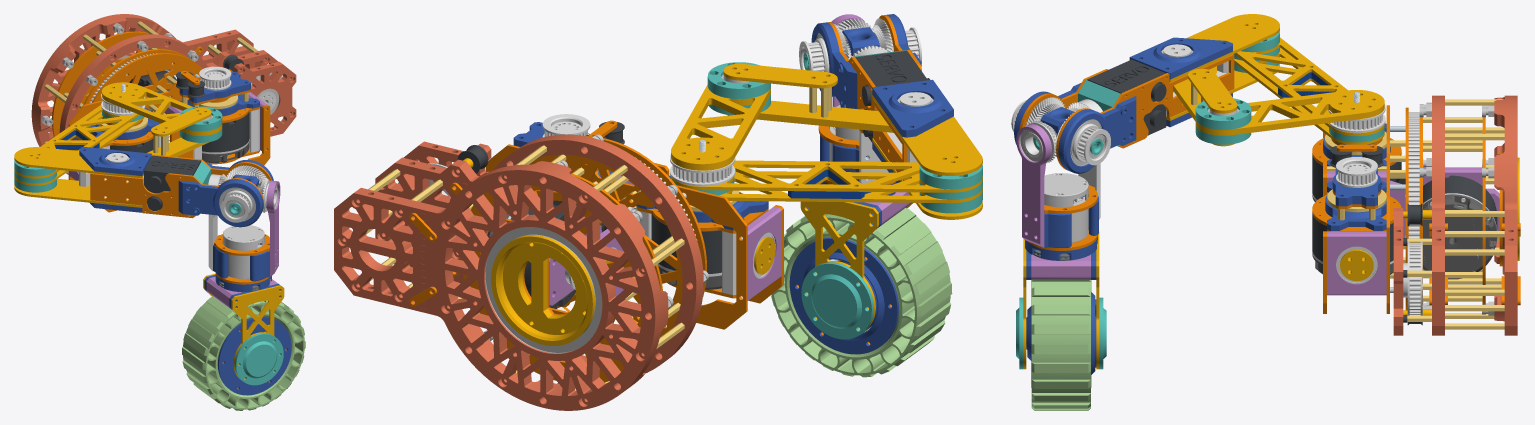
Rendered from single-leg-assembly.glb.
The picture shows the model from 3 angles, left to right: view 1: azimuth 30°, elevation 25°; view 2: azimuth 150°, elevation 25°; view 3: azimuth 270°, elevation 25°; orthographic projection. The views are drawn at different scales.
Visible parts, largest first — view 1: Back Support Plate Chassis (×2), Wheel, DEF Left Servo Plate, Wheel Front Dust Cap, Bearing Housing Support Chassis, Diff Wrist Left Bearing Cap, Swerve Rear Cap, AKH70-16电机 (×3), BC Top Plate, Swerve Front Connector Plate, DEF Top Plate, Pitch Body Rear Plate (+38 smaller); view 2: Back Support Plate Chassis (×2), Wheel, Bottom Bracket Chassis, Pitch Body Bearing Cap, AD Top Plate, Wheel Rear Dust Cap, Swerve Front Bearing Cap, Axis Rear Cover, BC Top Plate, Swerve Rear Connector Plate, DEF Top Plate, Bottom 2 Bracket Chassis (+31 smaller); view 3: Wheel, AKH70-16电机 (×4), Back Support Plate Chassis (×2), BC Top Plate, Axis Right Standoff, AD Top Plate, DEF Right Servo Plate, Serve Passive Support, Diff Wrist Right Bearing Cap, DEF Top Block, DEF Top Plate, Servo (×2) (+40 smaller).
Part boxes in pixels (x1=…): Back Support Plate Chassis (×2): x1=31, y1=14, x2=219, y2=174; Wheel: x1=182, y1=296, x2=305, y2=410; DEF Left Servo Plate: x1=90, y1=173, x2=263, y2=218; Wheel Front Dust Cap: x1=217, y1=316, x2=291, y2=395; Bearing Housing Support Chassis: x1=234, y1=61, x2=296, y2=136; Diff Wrist Left Bearing Cap: x1=178, y1=179, x2=263, y2=227; Swerve Rear Cap: x1=234, y1=333, x2=283, y2=385; AKH70-16电机 (×3): x1=110, y1=112, x2=249, y2=162; BC Top Plate: x1=102, y1=82, x2=222, y2=133; Swerve Front Connector Plate: x1=231, y1=285, x2=284, y2=379; DEF Top Plate: x1=14, y1=147, x2=143, y2=178; Pitch Body Rear Plate: x1=52, y1=31, x2=170, y2=136; Back Support Plate Chassis (×2): x1=420, y1=134, x2=703, y2=410; Wheel: x1=771, y1=208, x2=952, y2=377; Bottom Bracket Chassis: x1=334, y1=187, x2=432, y2=312; Pitch Body Bearing Cap: x1=491, y1=235, x2=594, y2=345; AD Top Plate: x1=671, y1=160, x2=982, y2=192; Wheel Rear Dust Cap: x1=789, y1=237, x2=898, y2=354; Swerve Front Bearing Cap: x1=801, y1=262, x2=873, y2=339; Axis Rear Cover: x1=485, y1=144, x2=747, y2=329; BC Top Plate: x1=671, y1=85, x2=770, y2=167; Swerve Rear Connector Plate: x1=800, y1=201, x2=878, y2=330; DEF Top Plate: x1=872, y1=95, x2=982, y2=175; Bottom 2 Bracket Chassis: x1=375, y1=157, x2=473, y2=283; Wheel: x1=1031, y1=280, x2=1090, y2=410; AKH70-16电机 (×4): x1=1312, y1=155, x2=1497, y2=279; Back Support Plate Chassis (×2): x1=1432, y1=95, x2=1517, y2=321; BC Top Plate: x1=1195, y1=90, x2=1384, y2=132; Axis Right Standoff: x1=1327, y1=231, x2=1386, y2=295; AD Top Plate: x1=1234, y1=37, x2=1384, y2=135; DEF Right Servo Plate: x1=1056, y1=54, x2=1234, y2=169; Serve Passive Support: x1=1016, y1=124, x2=1051, y2=247; Diff Wrist Right Bearing Cap: x1=1058, y1=96, x2=1136, y2=173; DEF Top Block: x1=1129, y1=37, x2=1232, y2=79; DEF Top Plate: x1=1169, y1=14, x2=1279, y2=82; Servo (×2): x1=1087, y1=59, x2=1166, y2=135.
Size of the model in its own units: 0.5042 by 0.3579 by 0.5124.
